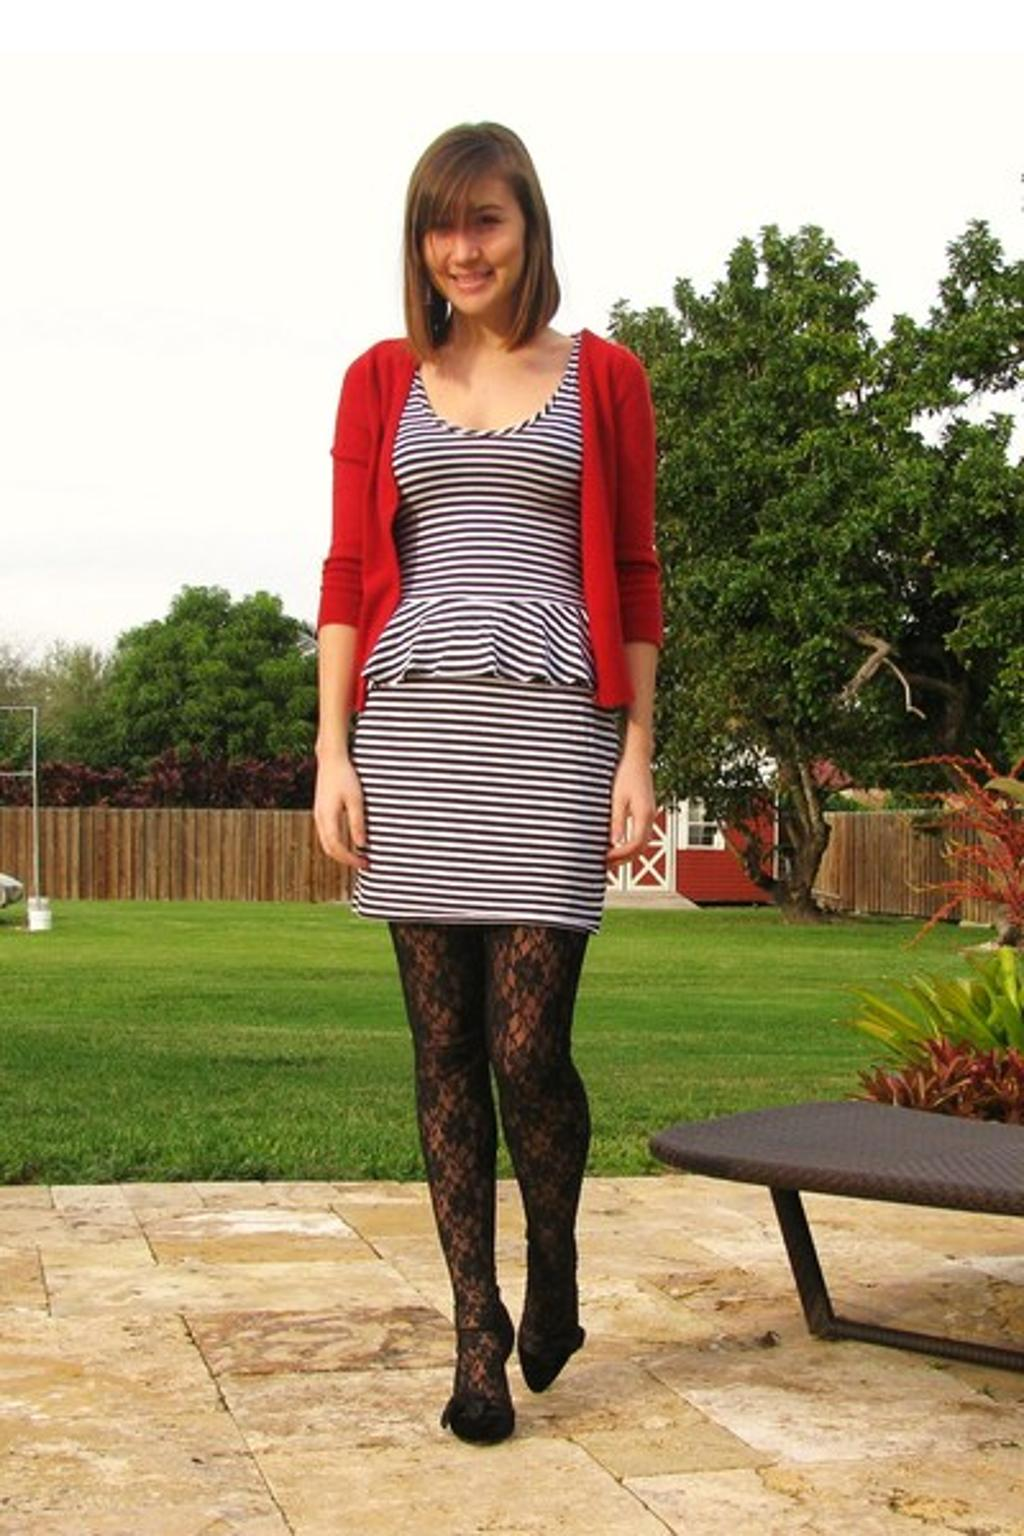face: (417, 162, 525, 312)
